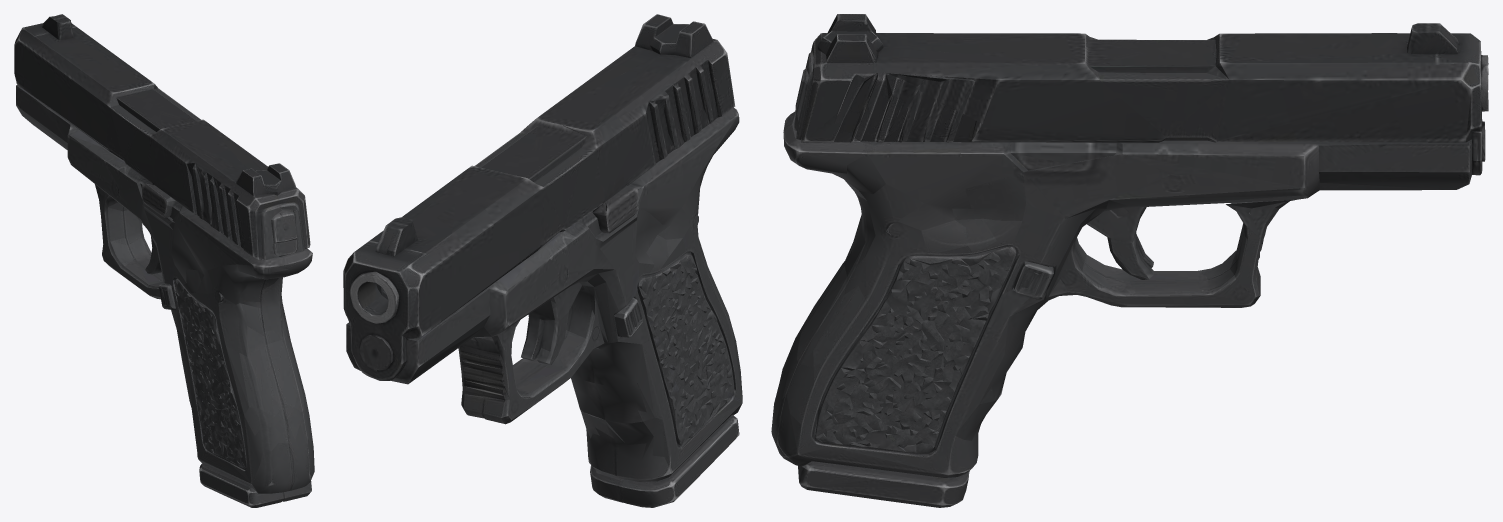
File: pistole.glb
The picture shows the model from 3 angles, left to right: view 1: azimuth 30°, elevation 25°; view 2: azimuth 150°, elevation 25°; view 3: azimuth 270°, elevation 25°; orthographic projection. The views are drawn at different scales.
Visible parts, largest first — view 1: waffe_pistole; view 2: waffe_pistole; view 3: waffe_pistole.
Part boxes in pixels (x1=…): waffe_pistole: x1=14, y1=14, x2=314, y2=507; waffe_pistole: x1=343, y1=14, x2=742, y2=507; waffe_pistole: x1=771, y1=14, x2=1488, y2=507.
Bounding box in the file's own units: 0.0299 × 0.1362 × 0.19.
1 material, 1 textured.
